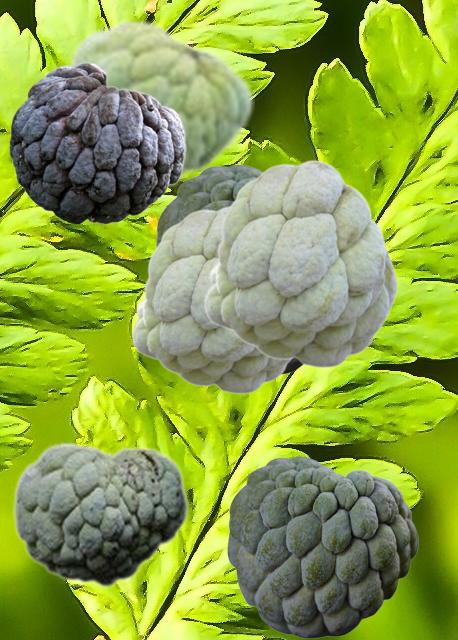atis: (203, 159, 397, 367), (227, 456, 417, 637), (62, 17, 253, 189), (155, 164, 302, 374), (131, 205, 291, 393), (9, 61, 185, 223), (12, 441, 188, 587)
